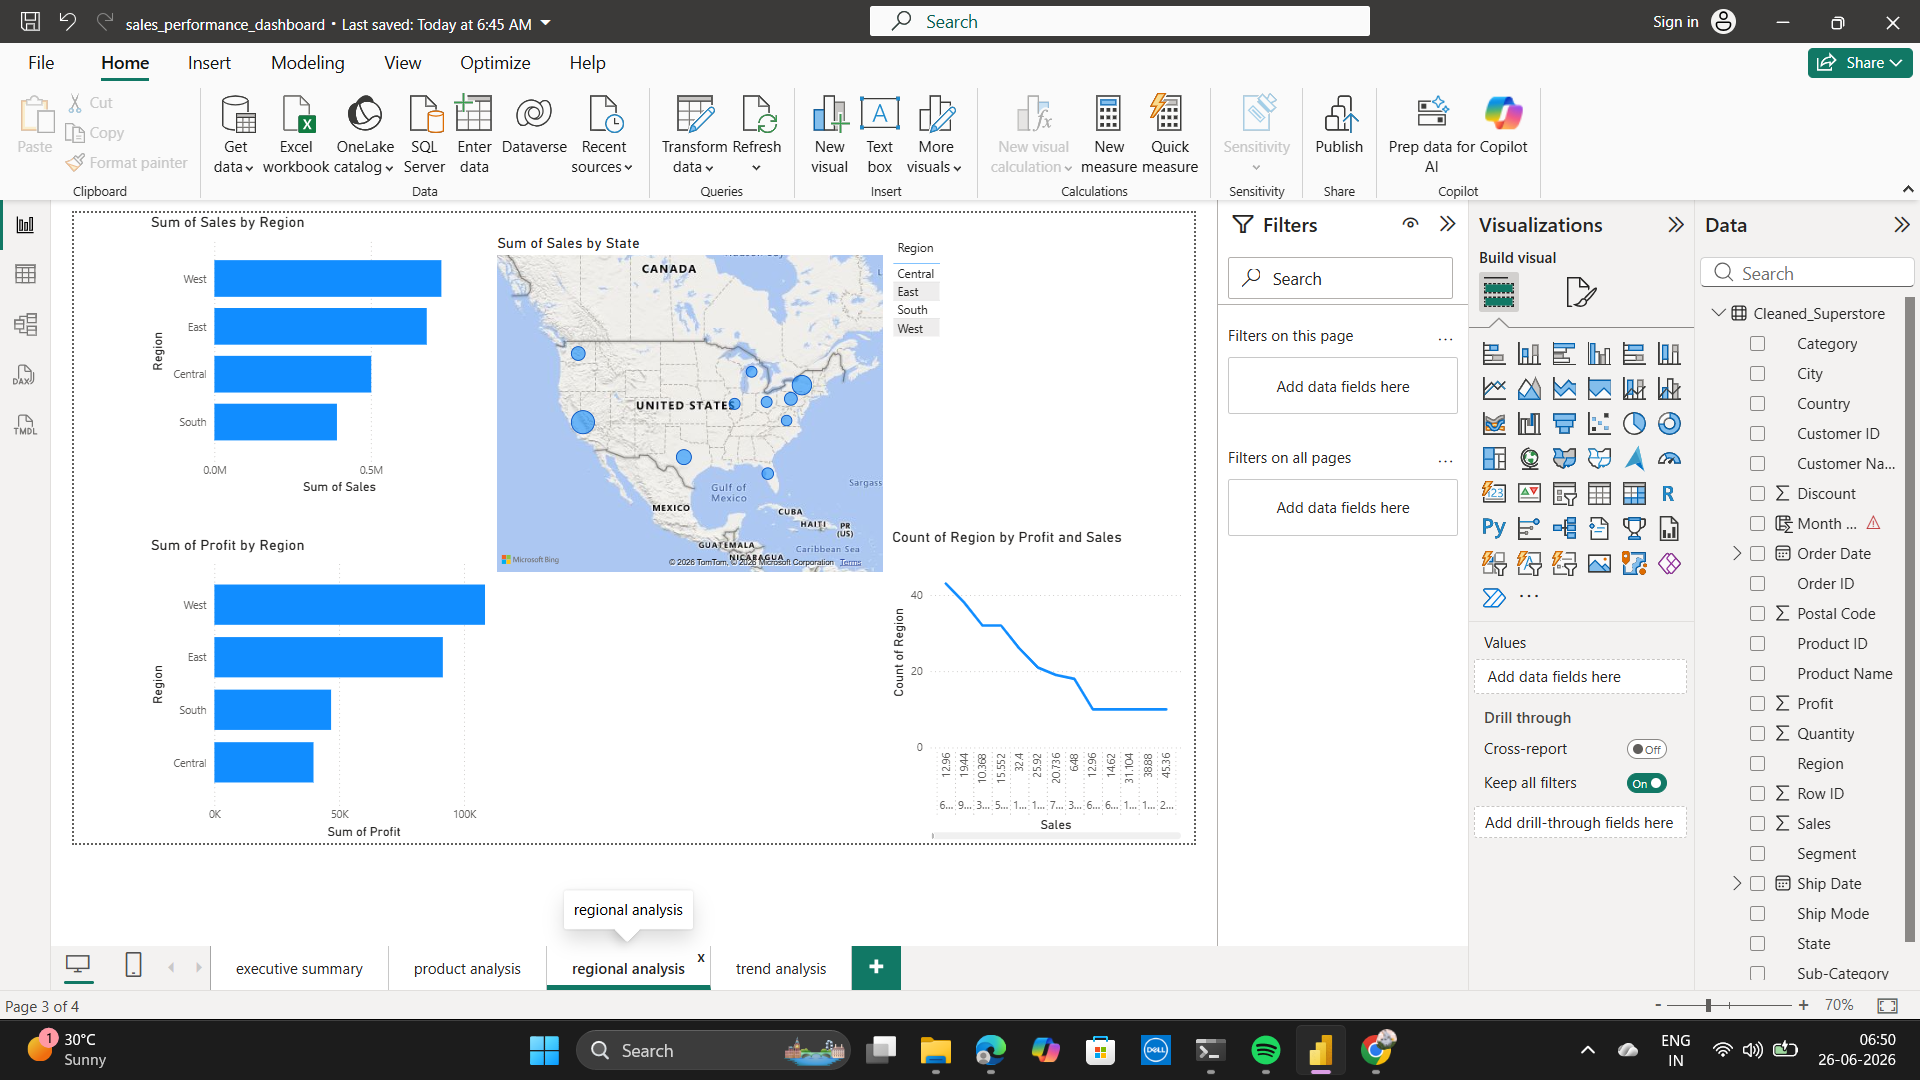

The page's visual inventory and layout, read from the dashboard file:
{"tool":"powerbi","page":{"name":"regional analysis","canvas":[1280,720],"ordinal":2},"visuals":[{"type":"clusteredBarChart","fields":{"Category":["Cleaned_Superstore.Region"],"Y":["Sum(Cleaned_Superstore.Sales)"]},"box":[82.3,0,382.8,326.6],"z":0},{"type":"clusteredBarChart","fields":{"Category":["Cleaned_Superstore.Region"],"Y":["Sum(Cleaned_Superstore.Profit)"]},"box":[82.3,369.1,439.1,351.3],"z":1000},{"type":"map","fields":{"Category":["Cleaned_Superstore.State"],"Size":["Sum(Cleaned_Superstore.Sales)"]},"box":[478.9,24.7,451.5,391.1],"z":2000},{"type":"lineChart","fields":{"Y":["CountNonNull(Cleaned_Superstore.Region)"],"Category":["Cleaned_Superstore.Profit","Cleaned_Superstore.Sales"]},"box":[930.4,359.5,340.3,360.9],"z":2001},{"type":"tableEx","fields":{"Values":["Cleaned_Superstore.Region"]},"box":[930.4,24.7,340.3,334.8],"z":2002}]}

Visuals, with their boxes on the page's 1280x720 design canvas (x1, y1, x2, y2). These are canvas units, not pixel positions in the 1920x1080 screenshot, which may show the page scaled, cropped or inside an application window:
clusteredBarChart - Cleaned_Superstore.Region x Sum(Cleaned_Superstore.Sales): [82, 0, 465, 327]
clusteredBarChart - Cleaned_Superstore.Region x Sum(Cleaned_Superstore.Profit): [82, 369, 521, 720]
map - Cleaned_Superstore.State x Sum(Cleaned_Superstore.Sales): [479, 25, 930, 416]
lineChart - CountNonNull(Cleaned_Superstore.Region) x Cleaned_Superstore.Profit: [930, 360, 1271, 720]
tableEx - Cleaned_Superstore.Region: [930, 25, 1271, 360]
